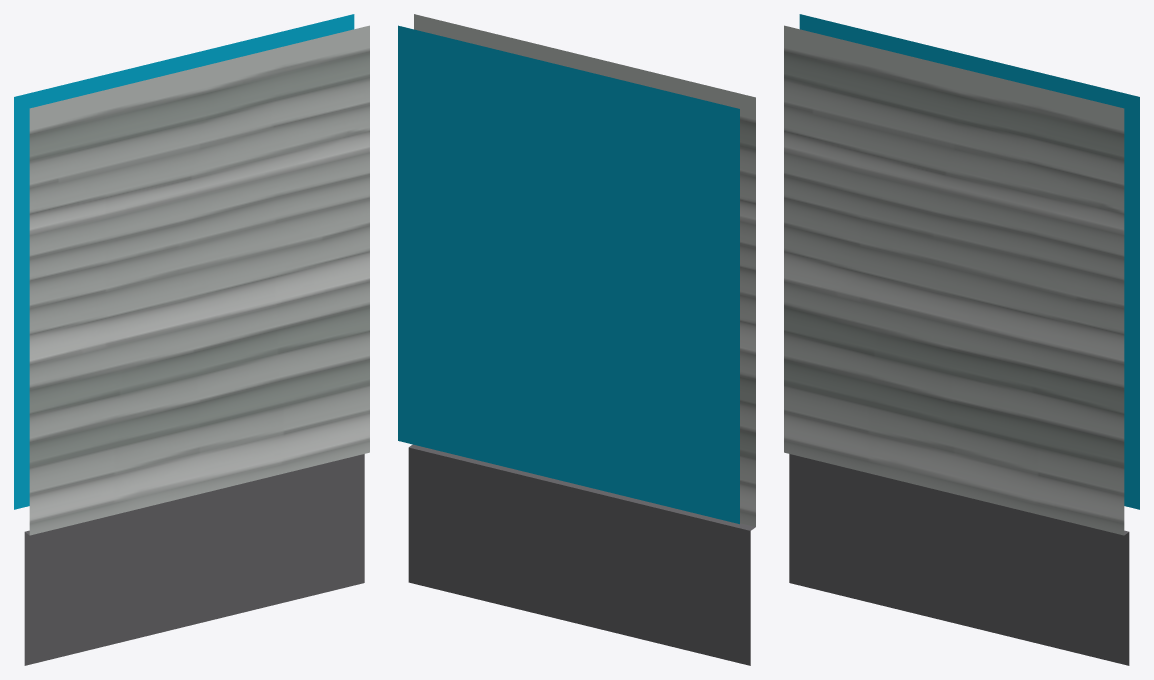
The model's file is SM_Bld_House_ExteriorWall_GroundFloor_02.fbx.
3 renders of one model, left to right at view 1: azimuth 30°, elevation 25°; view 2: azimuth 150°, elevation 25°; view 3: azimuth 330°, elevation 25°, orthographic.
Parts seen in each view (by area): view 1: SM_Bld_House_ExteriorWall_GroundFloor_02; view 2: SM_Bld_House_ExteriorWall_GroundFloor_02; view 3: SM_Bld_House_ExteriorWall_GroundFloor_02.
Part boxes in pixels (<box>): SM_Bld_House_ExteriorWall_GroundFloor_02: <box>14,14,369,665</box>; SM_Bld_House_ExteriorWall_GroundFloor_02: <box>398,14,755,665</box>; SM_Bld_House_ExteriorWall_GroundFloor_02: <box>784,14,1139,665</box>.
Bounding box in the file's own units: 250 × 394 × 20.
